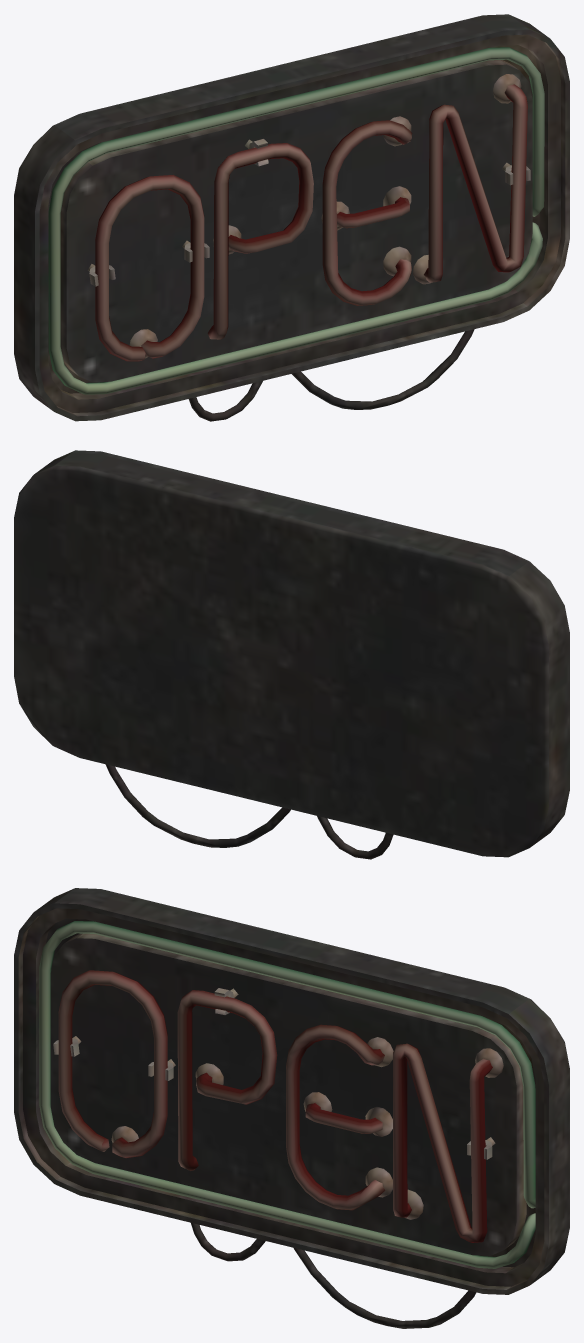
The model's file is neon_sign_shop_open.glb.
3 views of the same model, one above another, from view 1: azimuth 30°, elevation 25°; view 2: azimuth 150°, elevation 25°; view 3: azimuth 330°, elevation 25° (orthographic).
Visible parts, largest first — view 1: neon_sign_shop_OPEN; view 2: neon_sign_shop_OPEN; view 3: neon_sign_shop_OPEN.
Boxes of the visible parts, x1=… form: neon_sign_shop_OPEN: x1=14, y1=14, x2=569, y2=421; neon_sign_shop_OPEN: x1=14, y1=450, x2=569, y2=859; neon_sign_shop_OPEN: x1=14, y1=888, x2=569, y2=1328.
Size of the model in its own units: 0.7209 by 0.4608 by 0.0901.
1 material, 1 textured.
